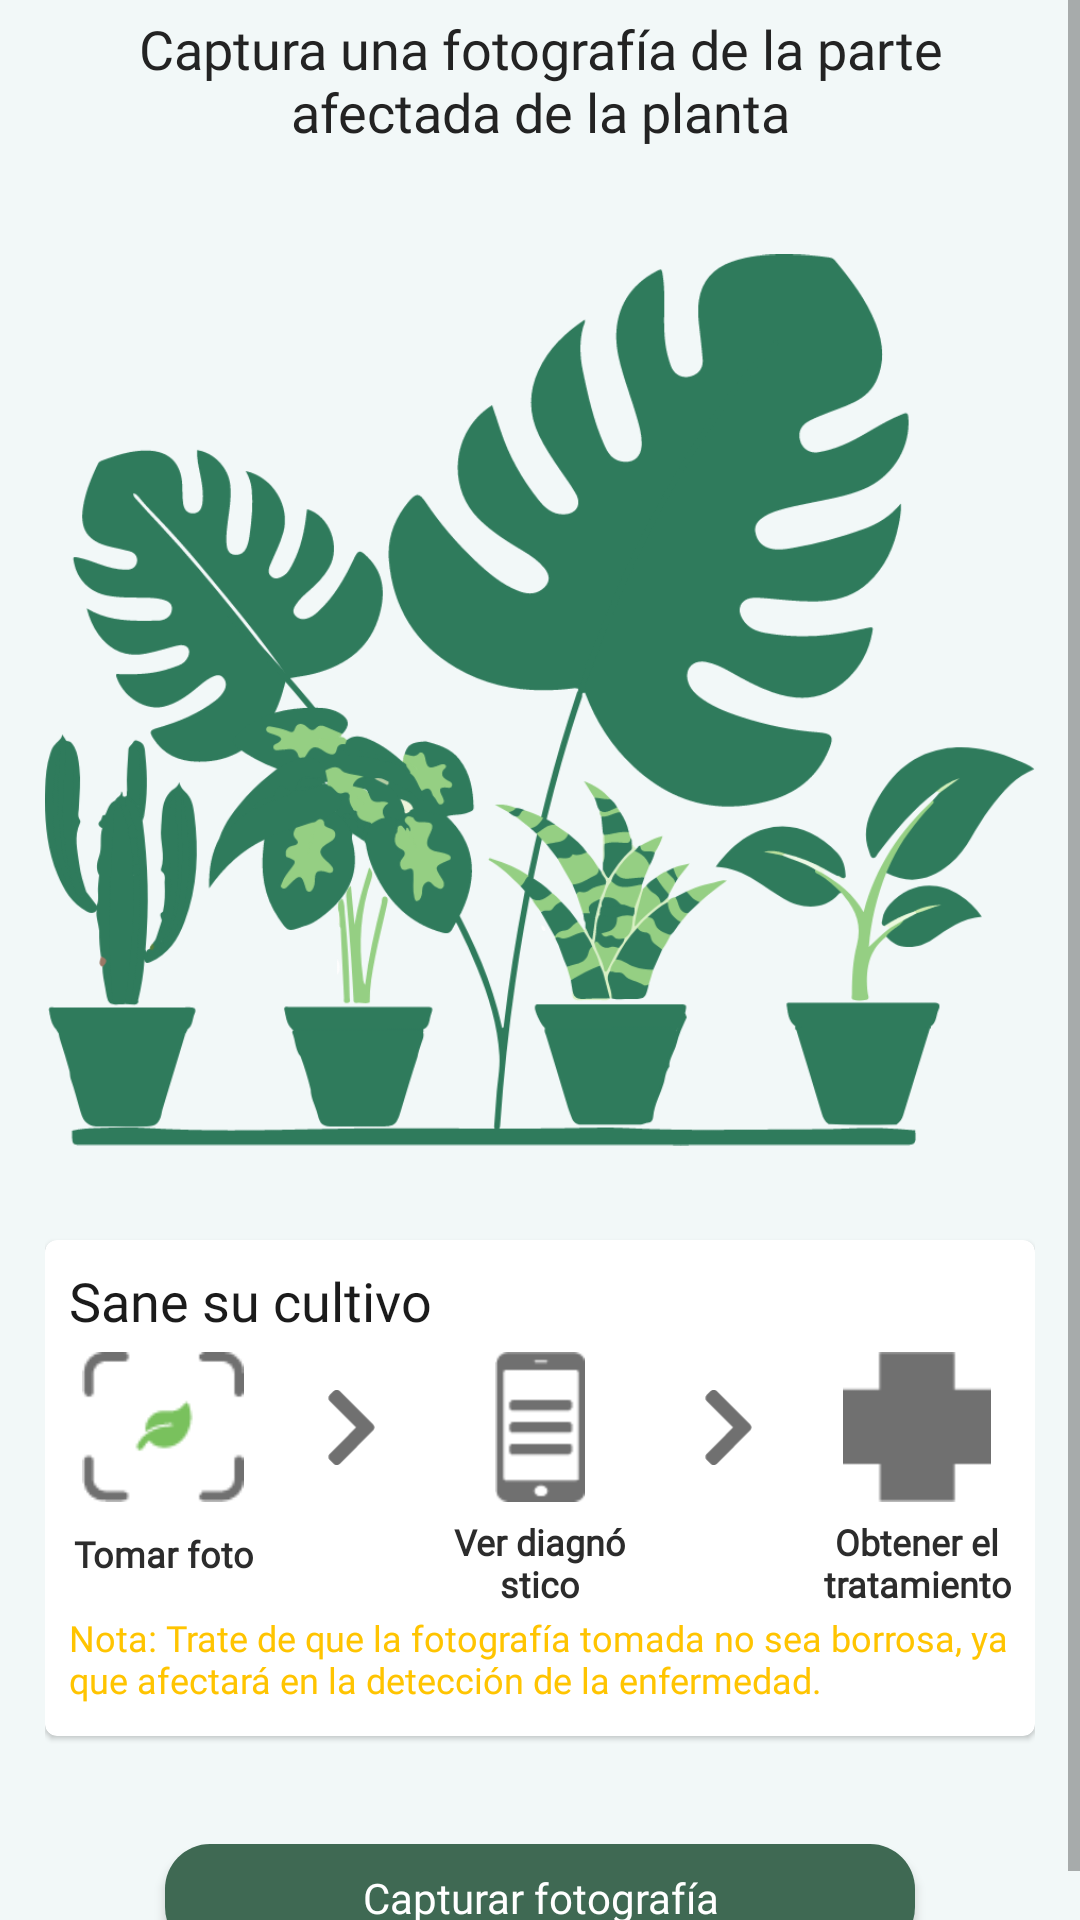

Point at icon controls on the screen. Image size 1080px×1920px, points as [x,y].
medicine: [917,1427]
phone: [540,1427]
right: [351,1427], [728,1427]
scan: [163,1427]
